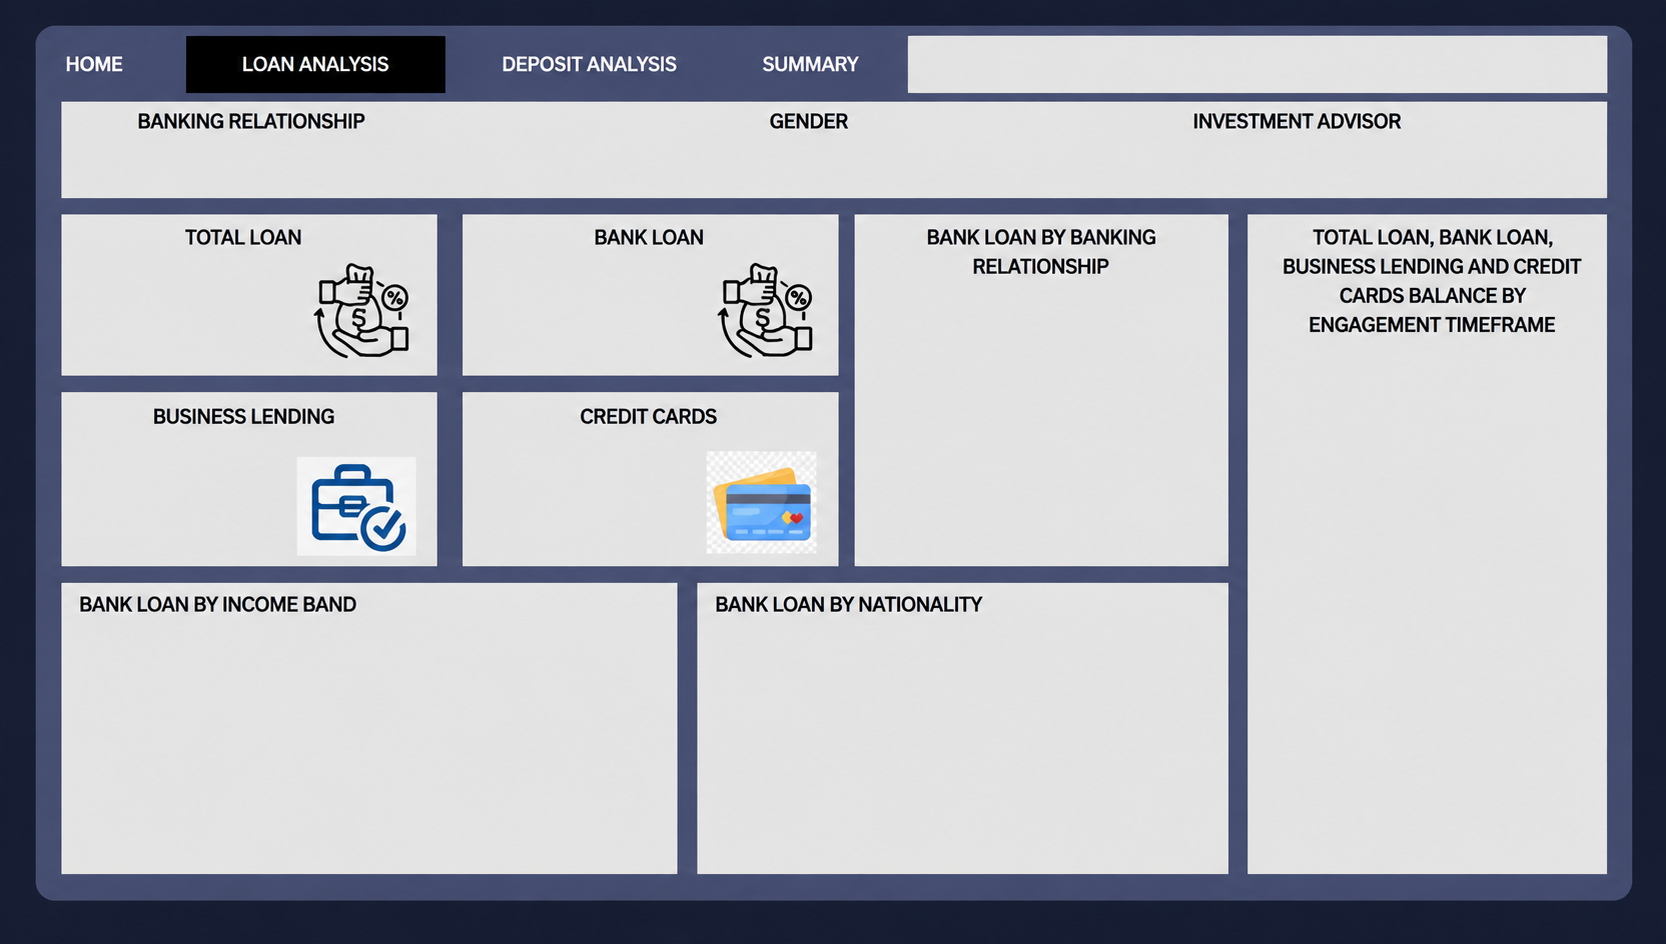

Layout of this report page (visuals, bound fields, positions):
{"tool":"powerbi","page":{"name":"Loan Analysis","canvas":[1280,720],"ordinal":1},"visuals":[{"type":"card","fields":{"Values":["DAX Measures.Total Loan"]},"box":[72.7,224,161.8,90.3],"z":0},{"type":"card","fields":{"Values":["DAX Measures.Bank Loan"]},"box":[307.2,224,172.4,89.1],"z":1000},{"type":"card","fields":{"Values":["DAX Measures.Credit Cards"]},"box":[307.2,360,171.2,89.1],"z":2000},{"type":"card","fields":{"Values":["DAX Measures.Business Lending"]},"box":[72.7,360,161.8,89.1],"z":3000},{"type":"slicer","fields":{"Values":["Banking Relationship.Banking Relationship"]},"box":[102.3,103.4,292.9,75.7],"z":4000},{"type":"slicer","fields":{"Values":["Gender.Gender"]},"box":[522.7,103.4,292.9,75.7],"z":5000},{"type":"slicer","fields":{"Values":["Investment Advisor.Investment Advisor"]},"box":[895,103.4,292.9,75.7],"z":6000},{"type":"donutChart","fields":{"Category":["Clients - Banking.Income Band"],"Y":["DAX Measures.Bank Loan"]},"box":[72.7,471.4,444.4,188.8],"z":7000},{"type":"clusteredBarChart","fields":{"Category":["Clients - Banking.Engagement Timeframe"],"Y":["DAX Measures.Total Loan","DAX Measures.Bank Loan","DAX Measures.Business Lending","DAX Measures.Credit Cards"]},"box":[981.5,212.2,236.9,447.9],"z":8000},{"type":"treemap","fields":{"Group":["Clients - Banking.Nationality"],"Values":["DAX Measures.Bank Loan"]},"box":[538.2,436.2,422.1,224],"z":9000},{"type":"lineClusteredColumnComboChart","fields":{"Y":["DAX Measures.Bank Loan"],"Category":["Banking Relationship.Banking Relationship"]},"box":[538.2,212.2,411.6,212.2],"z":10000},{"type":"slicer","fields":{"Values":["Period.Name"]},"box":[555.2,34.6,702.1,46.6],"z":11000},{"type":"actionButton","box":[72.8,44.2,58.5,31],"z":12000},{"type":"actionButton","box":[306.9,44.7,119.4,31],"z":13000},{"type":"actionButton","box":[471.6,44.2,83.6,31],"z":14000}]}

Visuals, with their boxes in screenshot pixels (x1, y1, x2, y2), scaled from the page's 1280x720 canvas onto the 1666x944 screenshot:
card - DAX Measures.Total Loan: [95,294,305,412]
card - DAX Measures.Bank Loan: [400,294,624,411]
card - DAX Measures.Credit Cards: [400,472,623,589]
card - DAX Measures.Business Lending: [95,472,305,589]
slicer - Banking Relationship.Banking Relationship: [133,136,514,235]
slicer - Gender.Gender: [680,136,1062,235]
slicer - Investment Advisor.Investment Advisor: [1165,136,1546,235]
donutChart - Clients - Banking.Income Band x DAX Measures.Bank Loan: [95,618,673,866]
clusteredBarChart - Clients - Banking.Engagement Timeframe x DAX Measures.Total Loan: [1277,278,1586,865]
treemap - Clients - Banking.Nationality x DAX Measures.Bank Loan: [701,572,1250,866]
lineClusteredColumnComboChart - DAX Measures.Bank Loan x Banking Relationship.Banking Relationship: [701,278,1236,556]
slicer - Period.Name: [723,45,1636,106]
actionButton: [95,58,171,99]
actionButton: [399,59,555,99]
actionButton: [614,58,723,99]
